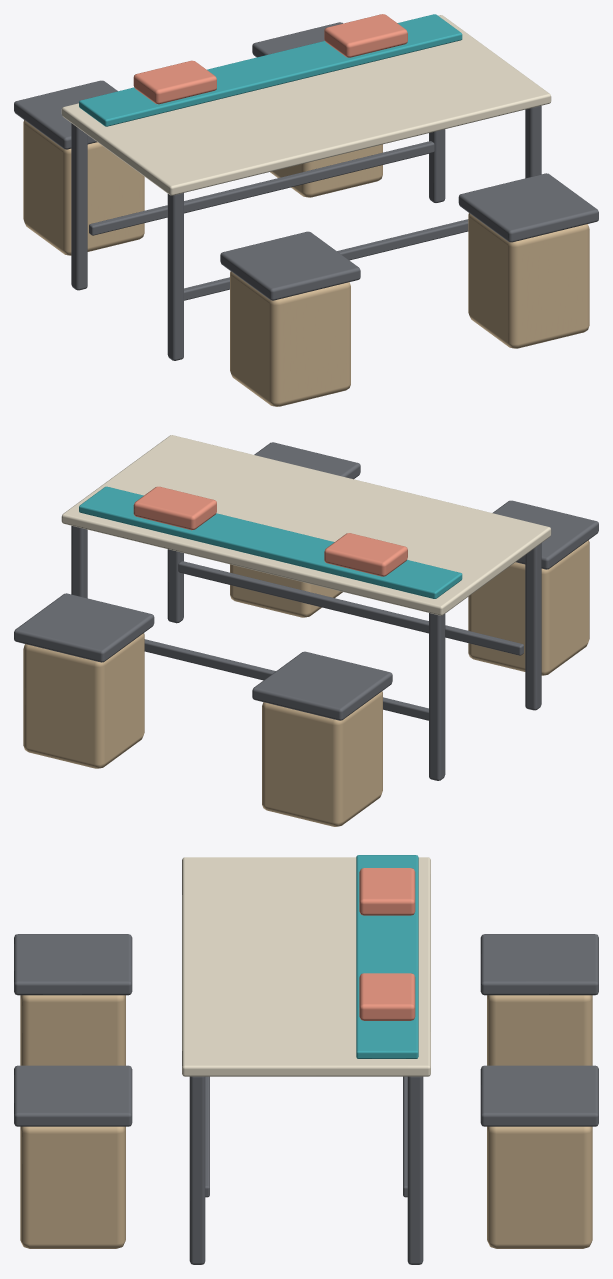
File: public-aquarium-and-marine-centre-education-classroom--42ba1727__34169.glb
3 renders of one model, top to bottom at view 1: azimuth 30°, elevation 25°; view 2: azimuth 150°, elevation 25°; view 3: azimuth 270°, elevation 25°, orthographic. The views are drawn at different scales.
Parts seen in each view (by area): view 1: education-classroom-table-set; view 2: education-classroom-table-set; view 3: education-classroom-table-set.
Part boxes in pixels (left/top/right/bottom): education-classroom-table-set: left=14, top=14, right=598, bottom=406; education-classroom-table-set: left=14, top=435, right=598, bottom=826; education-classroom-table-set: left=14, top=855, right=598, bottom=1264.
Bounding box in the file's own units: 1.6 × 0.8101 × 1.88.
